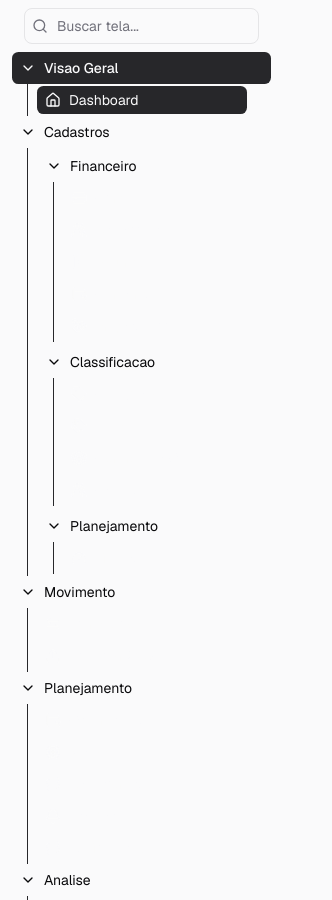
Test: SidebarNav › digitar "xyzxyz" exibe mensagem "Nenhuma tela encontrada."
Type "xyzxyz" into the field with placeholder "Buscar tela...".
click(142, 26); type("xyzxyz")  # box x1=24 y1=8 x2=259 y2=44
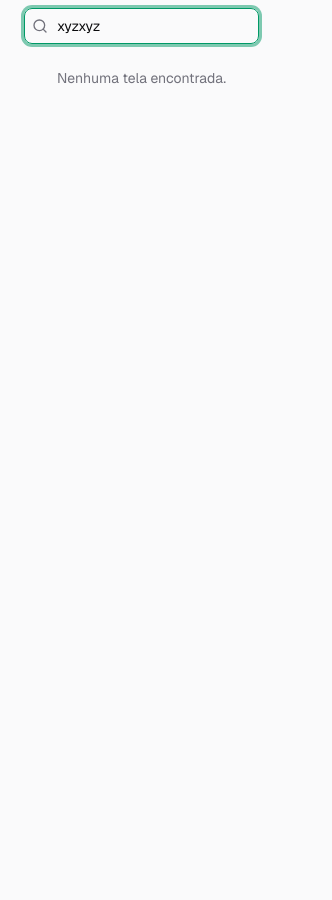
Expected: the text "Nenhuma tela encontrada." is shown, x1=57 y1=69 x2=226 y2=87
